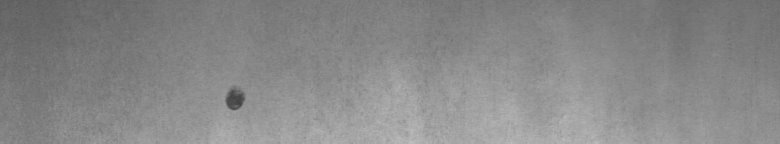fi: (220, 81, 251, 116)
